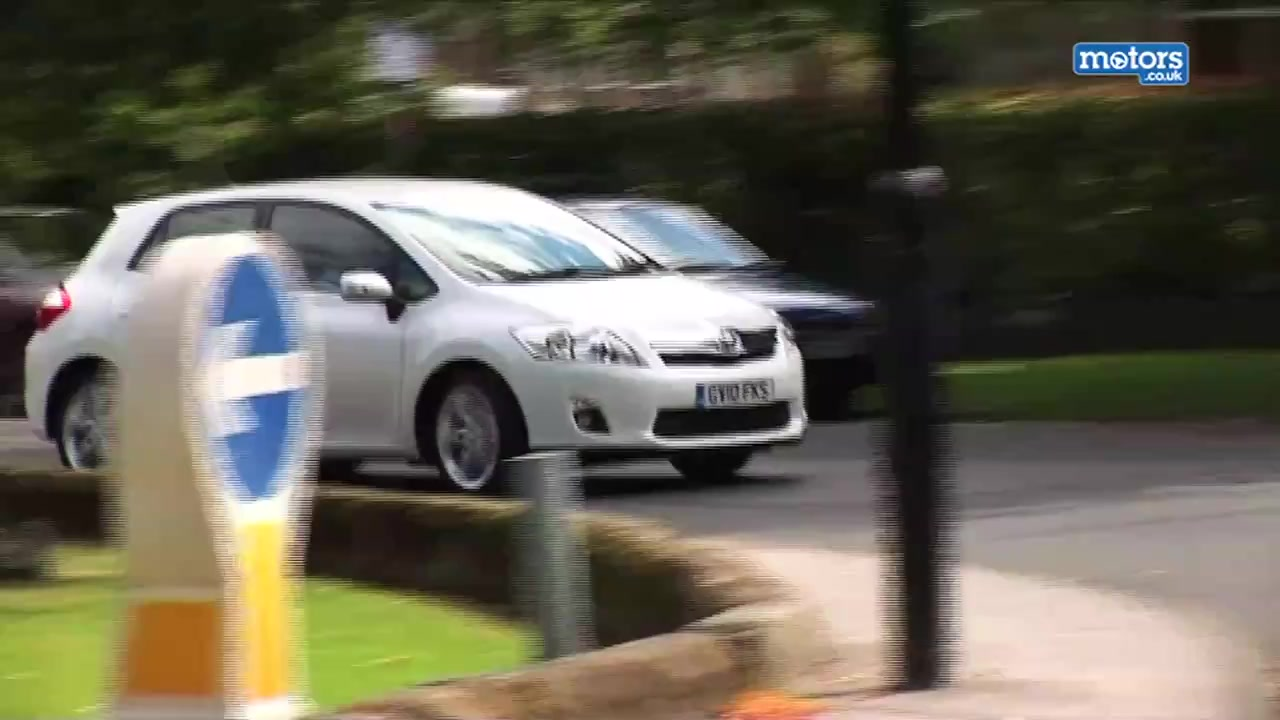car: (23, 167, 812, 497), (551, 198, 885, 423)
